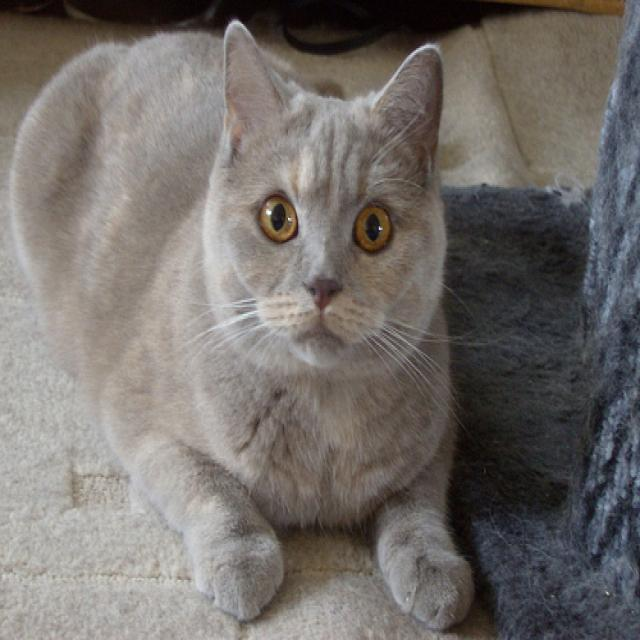British_Shorthair: (188, 10, 459, 378)
